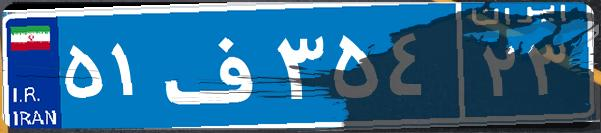1: (110, 28, 158, 105)
2: (475, 38, 525, 113)
3: (273, 28, 330, 110), (525, 38, 570, 115)
4: (385, 28, 445, 110)
5: (330, 28, 385, 110), (57, 26, 110, 107)
ف: (158, 15, 273, 115)
